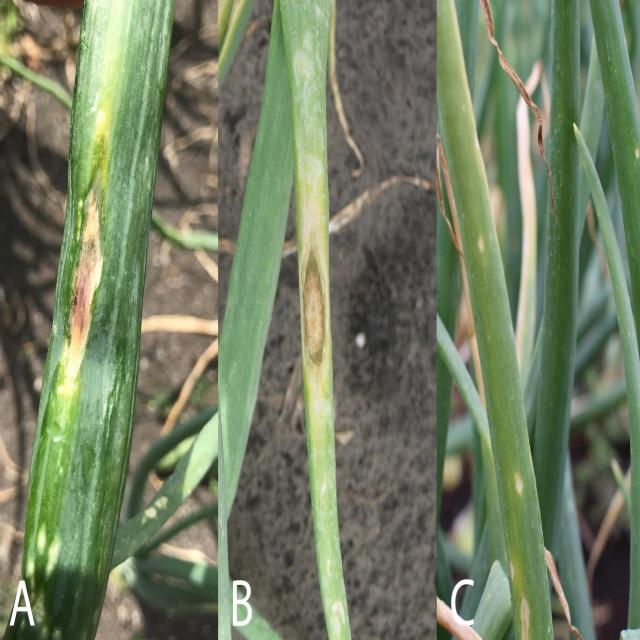blight: (68, 174, 103, 346), (296, 224, 332, 375)
